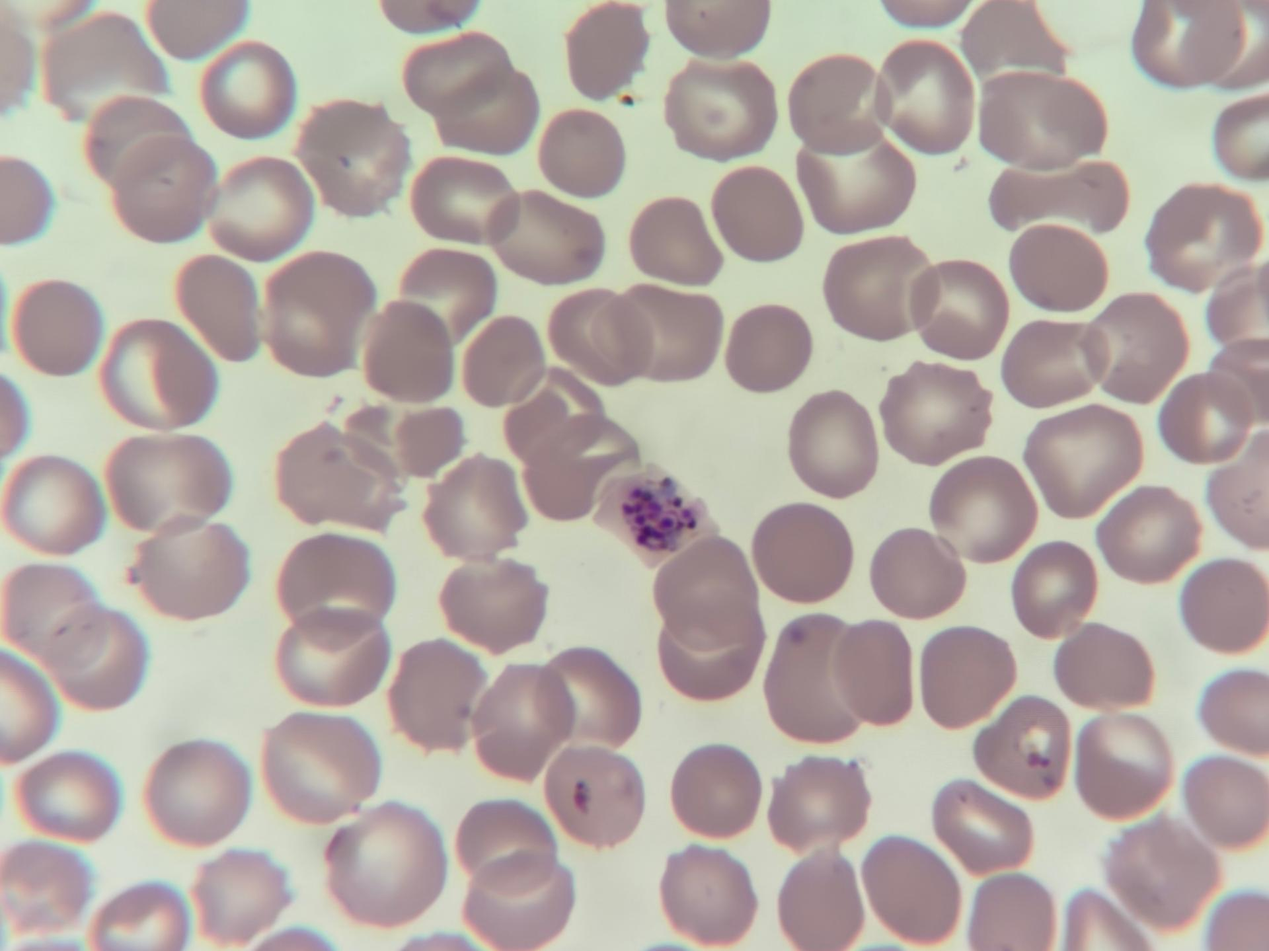Infected: (592, 459, 717, 566)
Uninfected: (323, 802, 445, 927), (276, 422, 406, 534), (258, 251, 373, 375), (295, 99, 412, 214), (260, 713, 377, 827), (41, 12, 165, 118), (651, 539, 767, 652), (1145, 182, 1264, 291), (978, 69, 1104, 171), (104, 432, 228, 535), (1103, 810, 1216, 922), (100, 319, 217, 427), (1025, 405, 1139, 515), (763, 618, 864, 742), (467, 662, 570, 781), (275, 606, 391, 708), (112, 134, 217, 246), (129, 521, 249, 619), (202, 157, 313, 262), (822, 235, 930, 342), (875, 40, 977, 153), (275, 533, 393, 630), (879, 360, 991, 461), (385, 639, 486, 751), (664, 59, 775, 160), (35, 609, 145, 710), (461, 849, 573, 948), (485, 190, 599, 287), (145, 741, 251, 845), (1085, 291, 1186, 400), (798, 141, 911, 237), (659, 595, 763, 699), (988, 159, 1122, 239), (928, 458, 1032, 560), (1072, 711, 1171, 818), (750, 504, 853, 606), (541, 743, 643, 846), (357, 300, 456, 406), (438, 558, 545, 656), (765, 755, 868, 856), (861, 839, 959, 944), (422, 457, 525, 556), (786, 54, 886, 155), (1135, 0, 1251, 87), (14, 750, 120, 845), (4, 454, 104, 554), (1095, 486, 1197, 584), (1008, 223, 1116, 315), (659, 845, 756, 947), (175, 252, 264, 363), (907, 259, 1007, 357), (920, 627, 1017, 728), (933, 780, 1035, 876), (974, 695, 1069, 798), (86, 99, 189, 193), (409, 155, 515, 246), (1156, 370, 1256, 466), (189, 849, 288, 945), (547, 648, 638, 752), (436, 70, 542, 159), (397, 248, 495, 344), (625, 284, 720, 383), (1054, 623, 1155, 715), (515, 431, 618, 521), (548, 288, 642, 386), (787, 392, 877, 494), (1003, 319, 1106, 408), (711, 167, 804, 264), (202, 42, 292, 142), (778, 848, 868, 948), (11, 279, 102, 377), (403, 33, 509, 117), (829, 619, 911, 727), (870, 528, 967, 619), (5, 563, 102, 654), (670, 745, 762, 840), (2, 840, 93, 936), (1179, 558, 1269, 655), (455, 798, 555, 884), (564, 3, 652, 100), (1011, 541, 1098, 639), (629, 196, 722, 287), (460, 313, 548, 408), (960, 1, 1067, 77), (537, 111, 627, 200), (1181, 755, 1268, 847), (500, 379, 590, 463), (725, 306, 810, 393), (1206, 436, 1269, 549), (966, 872, 1054, 948), (88, 882, 186, 950), (1198, 670, 1269, 761), (1, 650, 58, 761), (665, 3, 765, 60), (148, 2, 245, 59), (1212, 91, 1269, 182), (1209, 266, 1269, 348), (343, 404, 405, 477), (1212, 338, 1269, 408)
